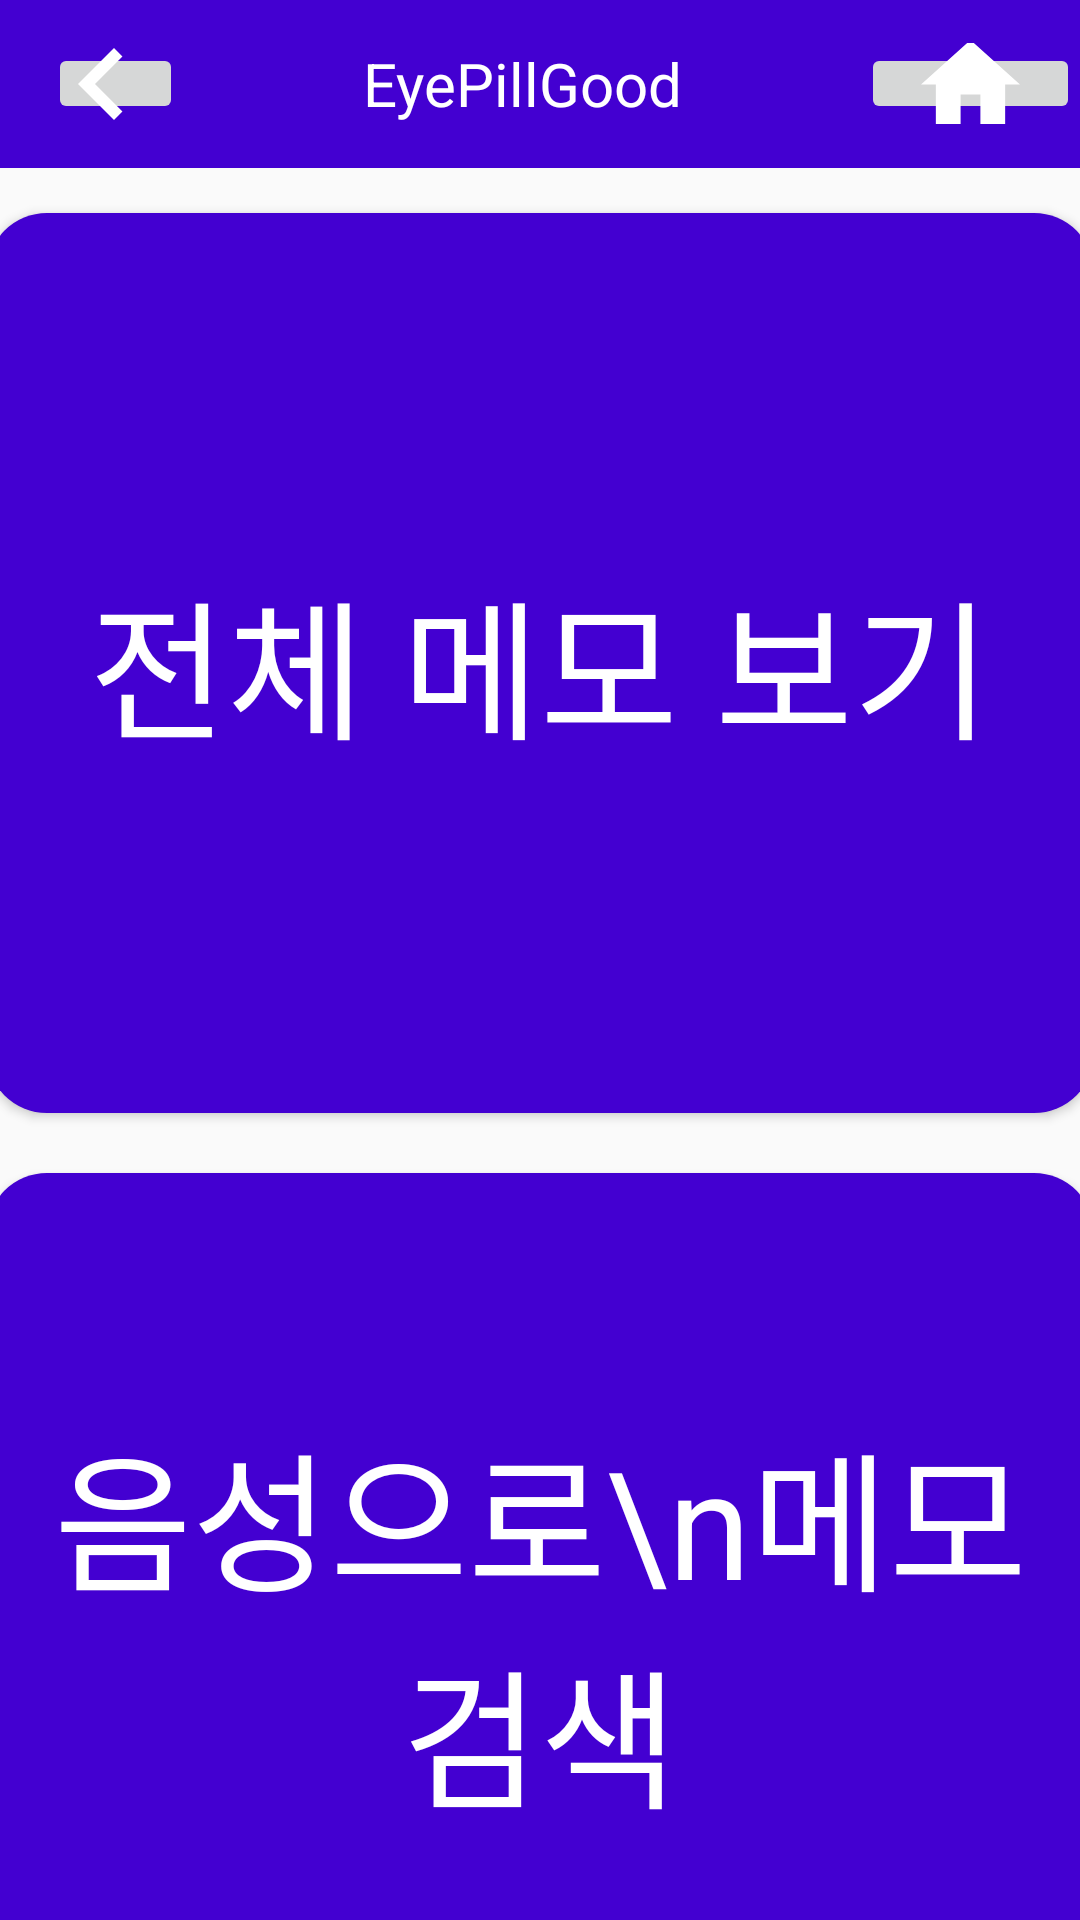

Icon bounding boxes for this 1080px×1920px phone screenshot, format detection(x1, y1, x2, y2):
Go back: detection(60, 48, 171, 120)
Home: detection(873, 43, 1068, 124)
